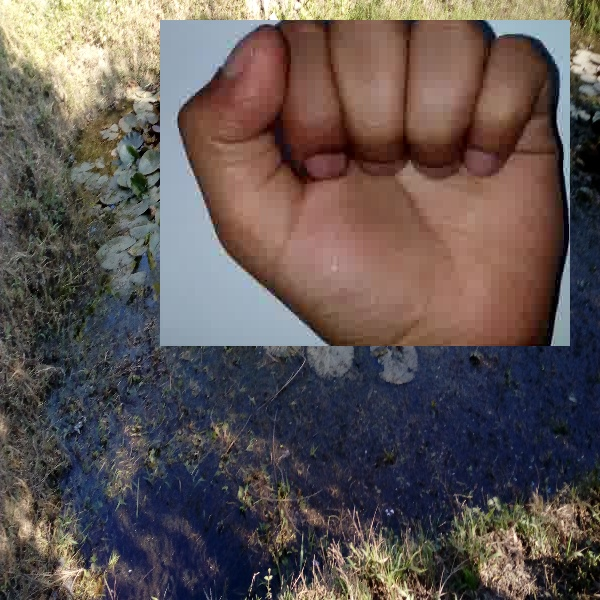A: (160, 20, 570, 346)
